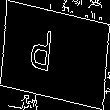P_S: (42, 28, 68, 82)
